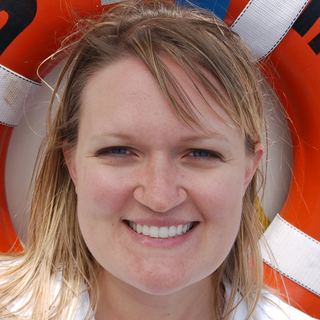eye: (93, 139, 146, 164), (176, 141, 226, 166)
